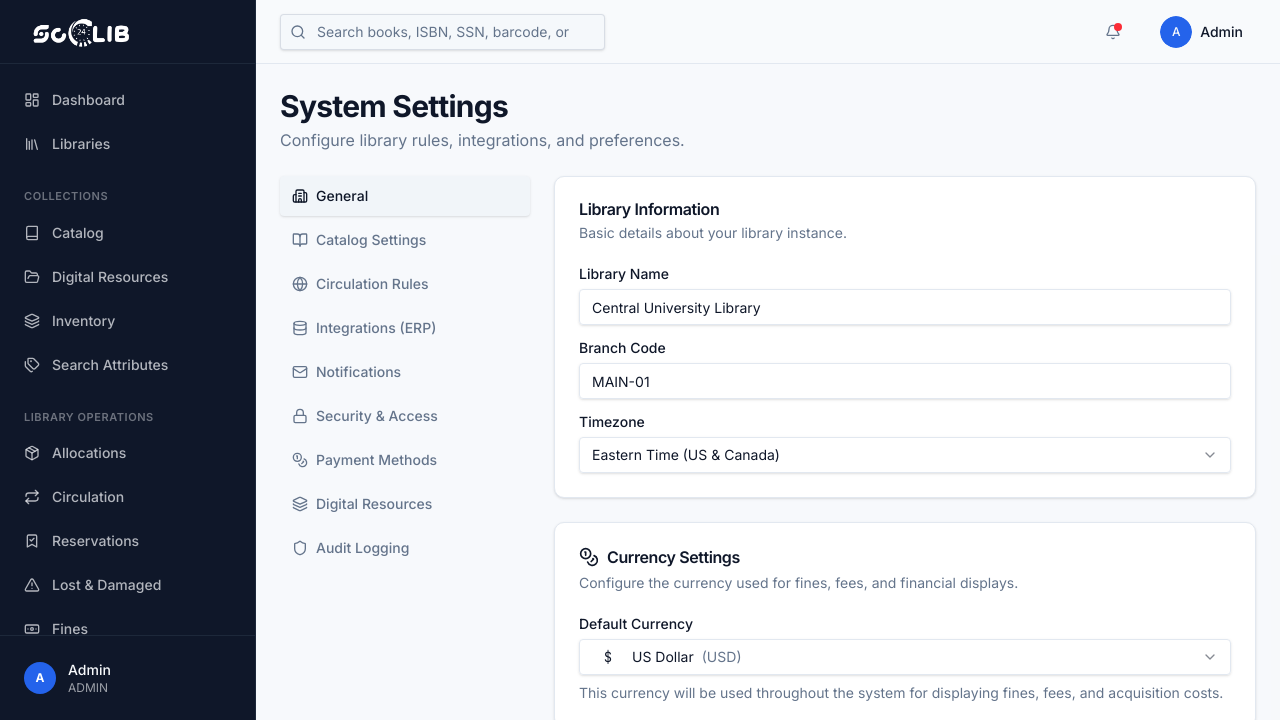
Test: SettingsPage › still switches settings tabs normally
Click the tab "Catalog Settings" at (405, 240), box [280, 220, 530, 260]
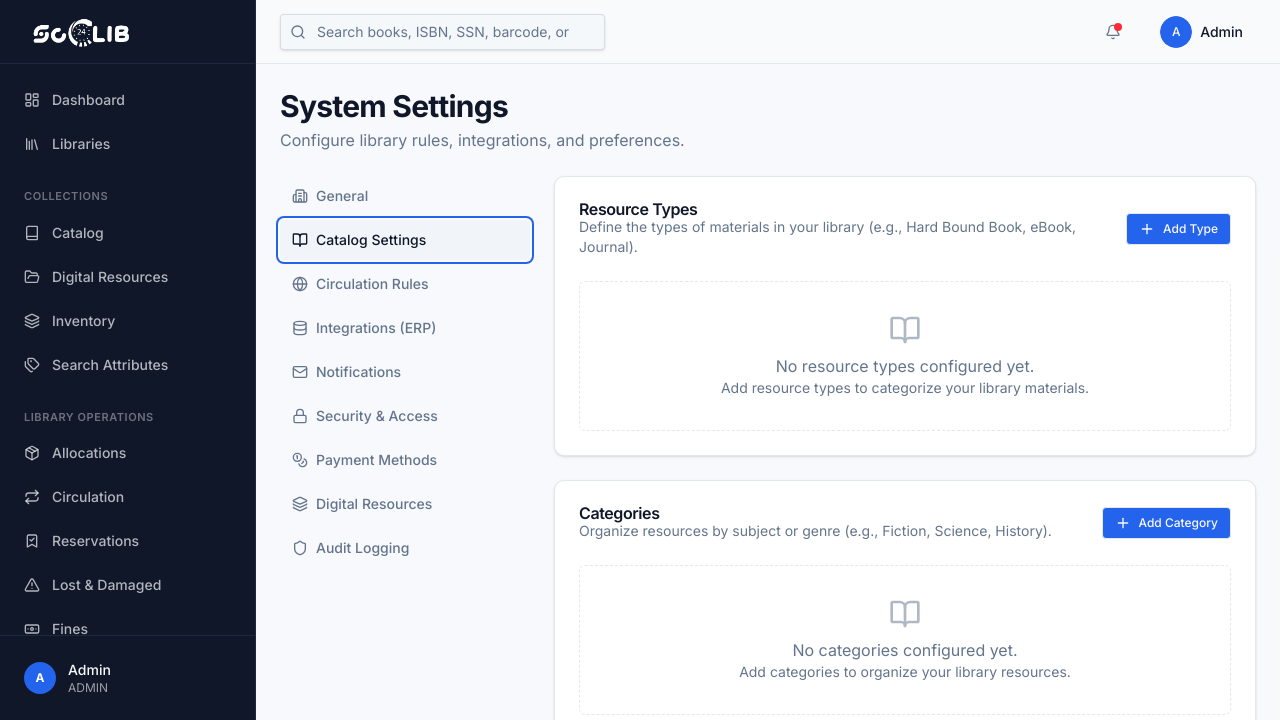
expect the text "Resource Types" is shown: met, box [579, 199, 698, 219]
